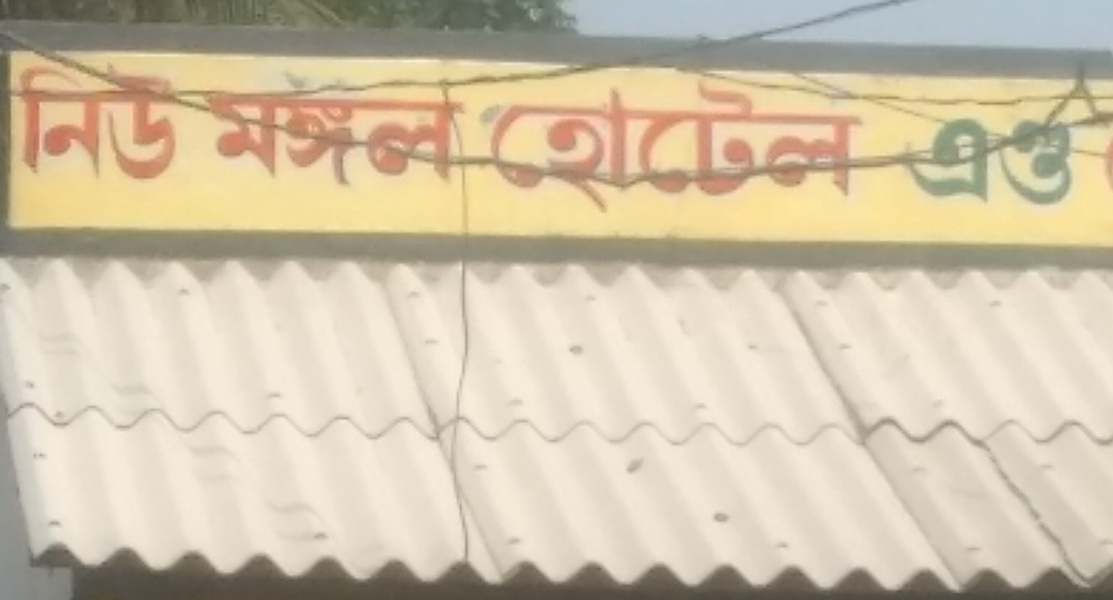text: (497, 78, 512, 218), (513, 78, 528, 218), (529, 78, 544, 218), (545, 78, 560, 218), (561, 78, 576, 218), (577, 78, 592, 218), (593, 78, 608, 218), (609, 78, 624, 218), (625, 78, 640, 218), (641, 78, 656, 218), (657, 78, 672, 218), (673, 78, 688, 218), (689, 78, 704, 218), (705, 78, 720, 218), (721, 78, 736, 218), (737, 78, 752, 218), (753, 78, 768, 218), (769, 78, 784, 218), (785, 78, 800, 218), (801, 78, 816, 218), (817, 78, 832, 218), (833, 78, 848, 218), (849, 78, 864, 218), (17, 61, 32, 185), (33, 61, 48, 185), (49, 61, 64, 185), (65, 61, 80, 185), (81, 61, 96, 185), (97, 61, 112, 185), (113, 61, 128, 185), (129, 61, 144, 185), (145, 61, 160, 185), (161, 61, 176, 185), (897, 109, 912, 216), (913, 109, 928, 216), (929, 109, 944, 216), (945, 109, 960, 216), (961, 109, 976, 216), (977, 109, 992, 216), (993, 109, 1008, 216), (1009, 109, 1024, 216), (1025, 109, 1040, 216), (1041, 109, 1056, 216), (1057, 109, 1072, 216), (209, 87, 224, 190), (225, 87, 240, 190), (241, 87, 256, 190), (257, 87, 272, 190), (273, 87, 288, 190), (289, 87, 304, 190), (305, 87, 320, 190), (321, 87, 336, 190), (337, 87, 352, 190), (353, 87, 368, 190), (369, 87, 384, 190), (385, 87, 400, 190), (401, 87, 416, 190), (417, 87, 432, 190), (433, 87, 448, 190), (449, 87, 464, 190), (488, 78, 496, 218), (7, 61, 16, 185), (1073, 109, 1081, 216), (177, 61, 183, 185), (865, 78, 870, 218), (465, 87, 471, 190), (1105, 136, 1113, 195), (1098, 136, 1104, 195), (205, 87, 208, 190), (895, 109, 896, 216)
